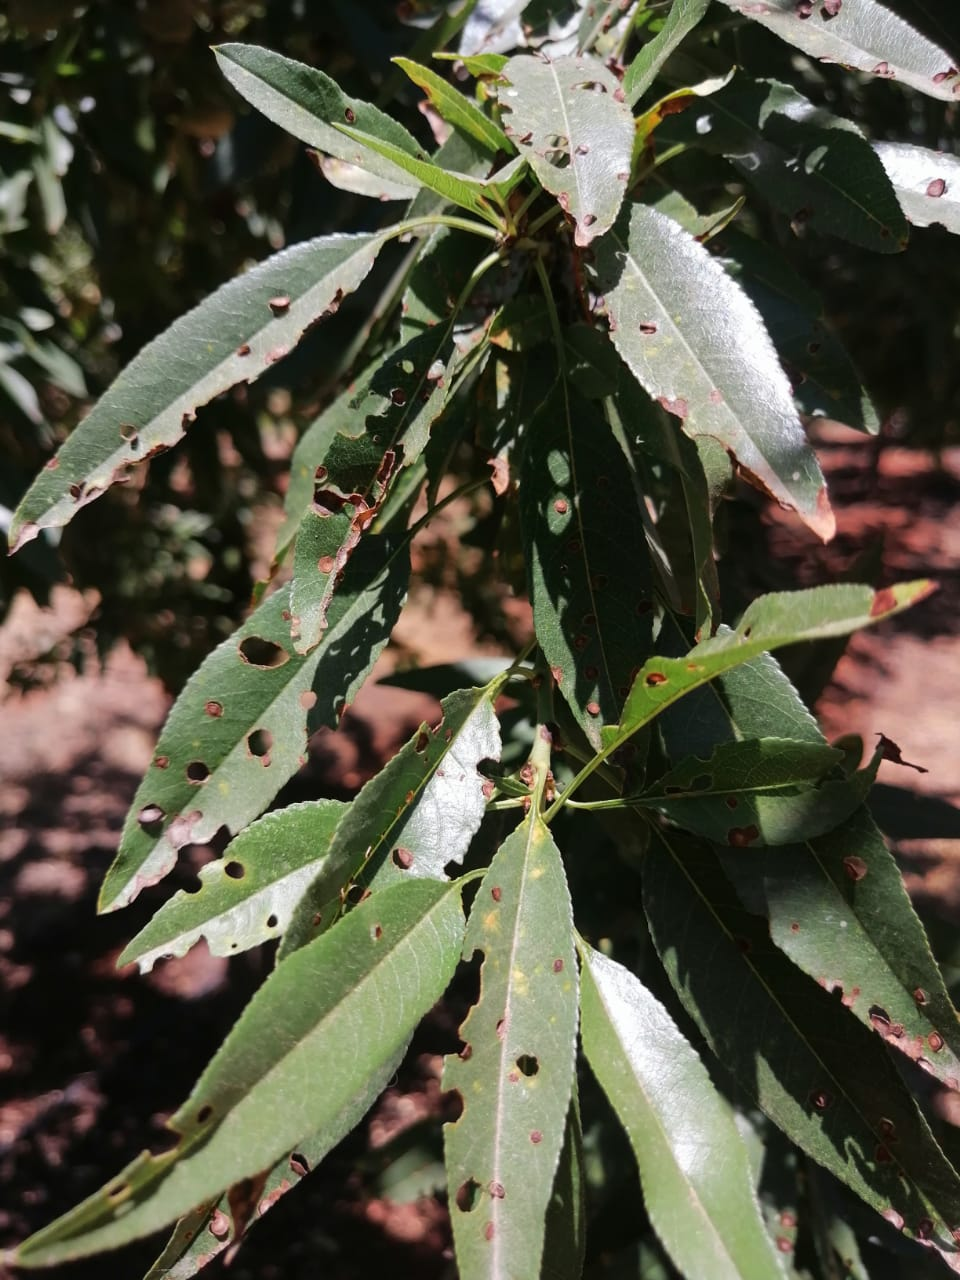coryneum: (1, 875, 468, 1265), (6, 230, 391, 557), (91, 525, 414, 914), (578, 198, 838, 541), (437, 813, 586, 1280), (274, 684, 498, 969), (594, 580, 944, 757), (287, 322, 463, 656), (494, 50, 633, 245)
